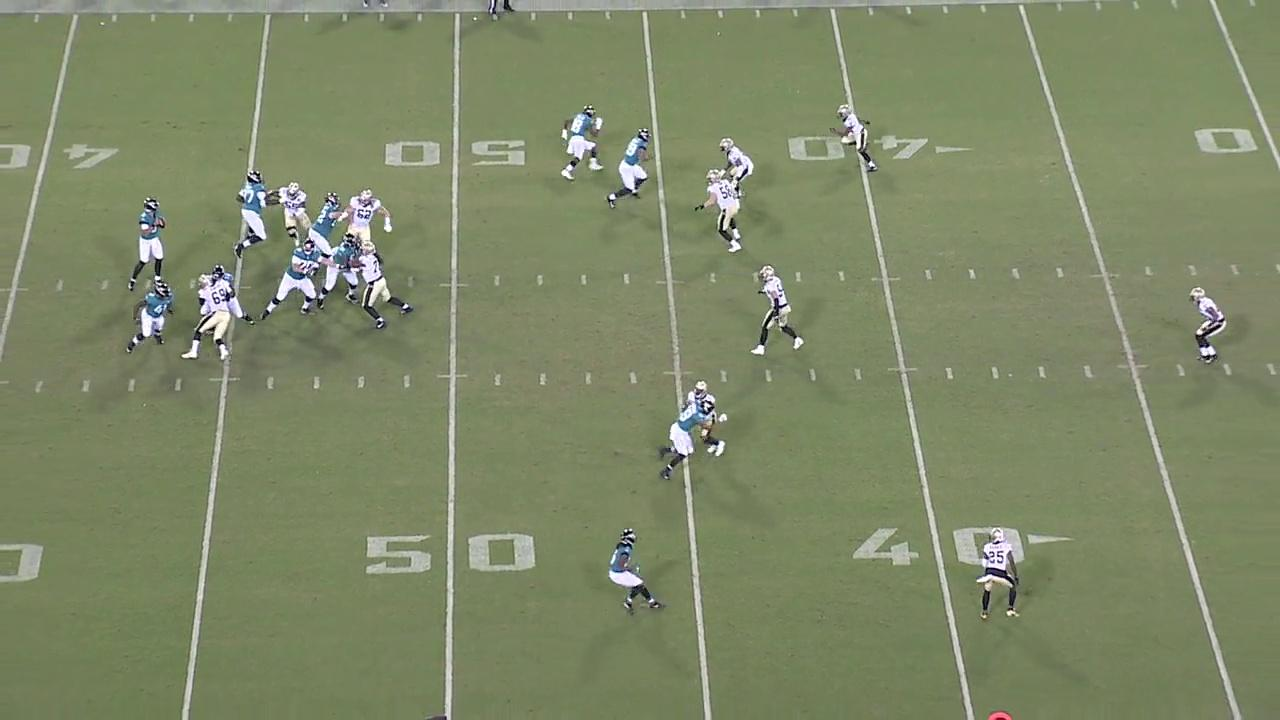five_hash: (209, 376, 241, 384), (1117, 363, 1153, 370), (1091, 272, 1122, 280), (867, 275, 902, 282), (886, 366, 920, 373), (436, 372, 469, 379), (662, 370, 695, 377), (0, 287, 34, 293), (440, 281, 469, 288), (656, 279, 684, 286)
hash: (171, 375, 188, 396), (1170, 361, 1187, 380), (1079, 362, 1096, 380), (624, 368, 640, 387), (716, 367, 732, 386), (1034, 363, 1049, 383), (309, 374, 325, 392), (353, 373, 369, 391), (490, 371, 506, 389), (581, 369, 595, 389), (77, 377, 94, 393), (490, 272, 505, 290), (262, 375, 278, 391), (987, 365, 1003, 381), (1220, 361, 1236, 377), (1141, 262, 1156, 279), (53, 277, 67, 295), (124, 377, 138, 395), (31, 377, 46, 393), (619, 271, 634, 287), (490, 372, 505, 388), (536, 371, 551, 387), (1009, 266, 1024, 282), (533, 272, 547, 289), (807, 366, 819, 385), (1052, 266, 1067, 281), (1226, 261, 1241, 276), (923, 266, 937, 282), (1186, 262, 1200, 278), (401, 373, 414, 390), (96, 276, 110, 291), (834, 268, 848, 283), (944, 366, 957, 382), (1265, 362, 1279, 376), (762, 368, 774, 384), (852, 364, 863, 381), (792, 269, 805, 283), (966, 268, 979, 281), (578, 273, 589, 287)
number: (379, 131, 537, 176), (0, 138, 121, 176), (784, 128, 926, 159)
